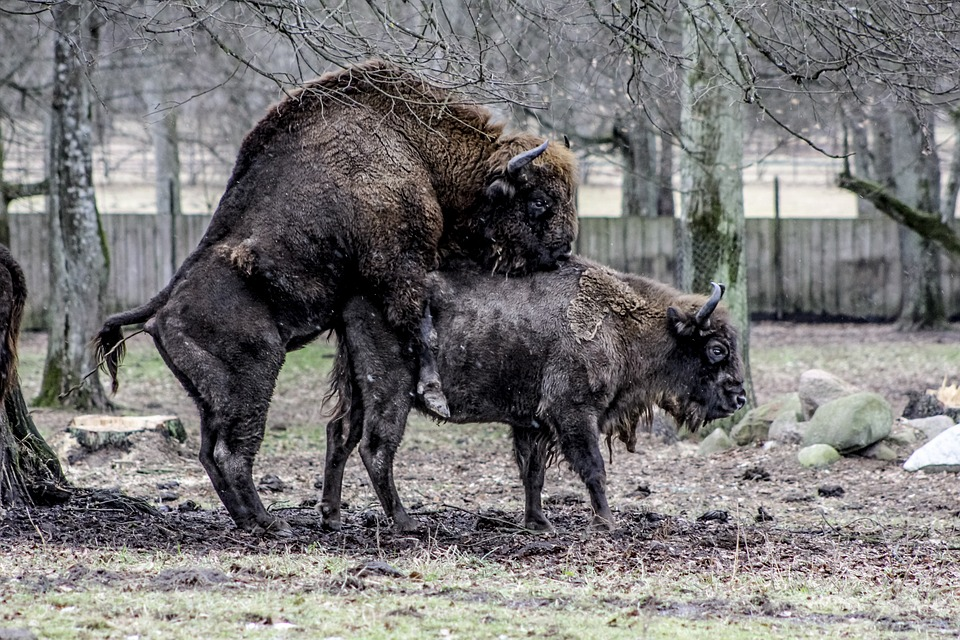zubr: (80, 33, 612, 528), (337, 183, 780, 571)
